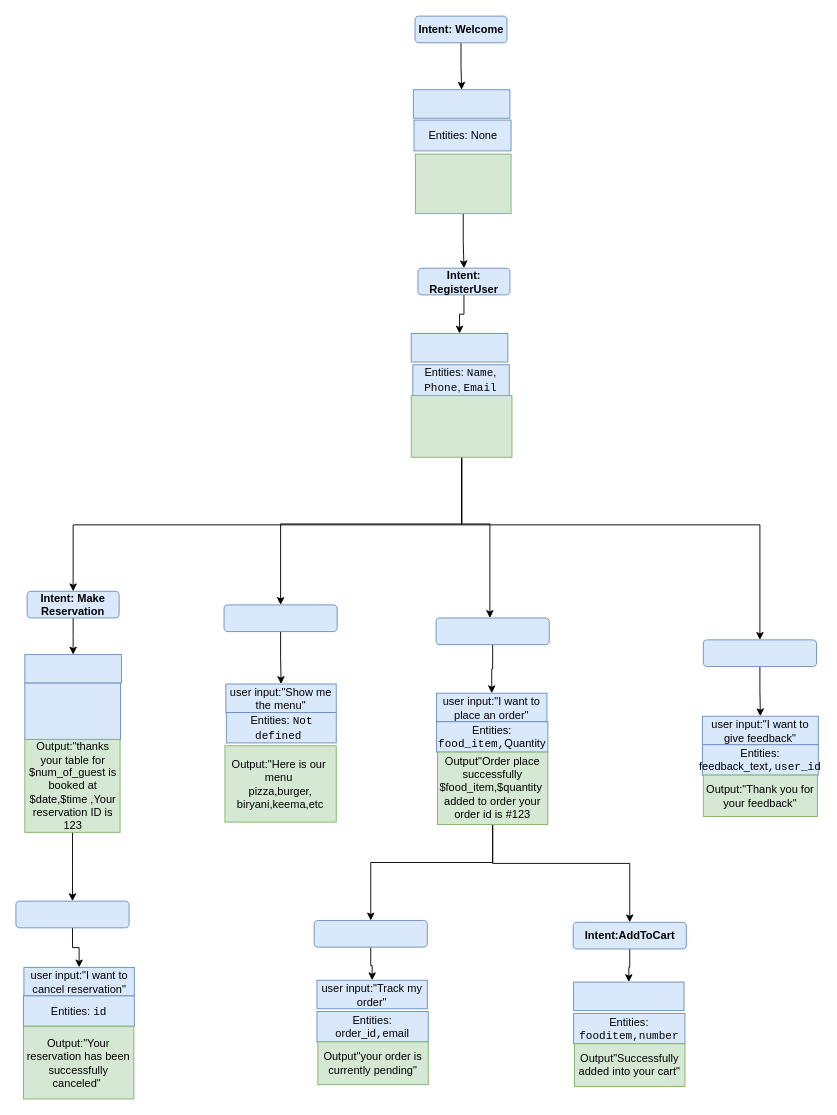
Image size: 837x1115. Some labels were removed from this diagram. Each missing label, with the centre of its shape:
Entities: person,phone , NumberOfGuests , Date _ Time: pixel 72 710
Intent: Cancel_ Reservation: pixel 72 914
Intent: Feedback: pixel 759 653
Intent: Order status: pixel 370 933
Intent: Place-Order: pixel 492 631
Intent: Show_Menu: pixel 280 618
Output:"Thank $name,you are successfully registered: pixel 461 426
Output:"Welcome to HR.Reastaurent chatbot .How can i assist you today?: pixel 462 183
user input:"Add 1 burger to my cart": pixel 628 996
user input:"Hello": pixel 461 103
user input:"I need a reservation": pixel 72 668
user input:"I want to register": pixel 459 347
